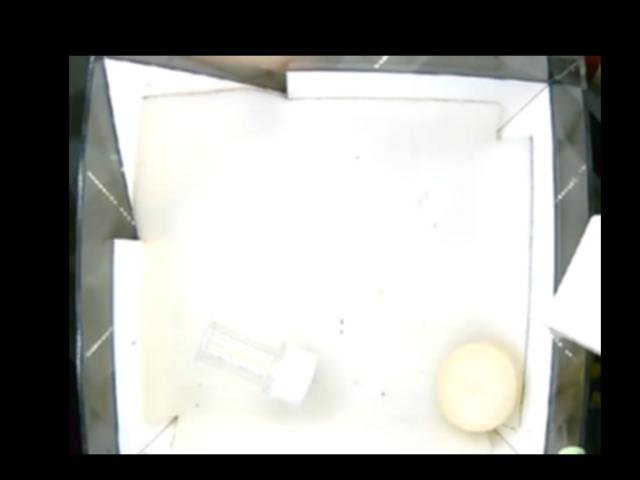Bottle: (197, 316, 315, 400)
Mooli: (433, 343, 522, 434)
